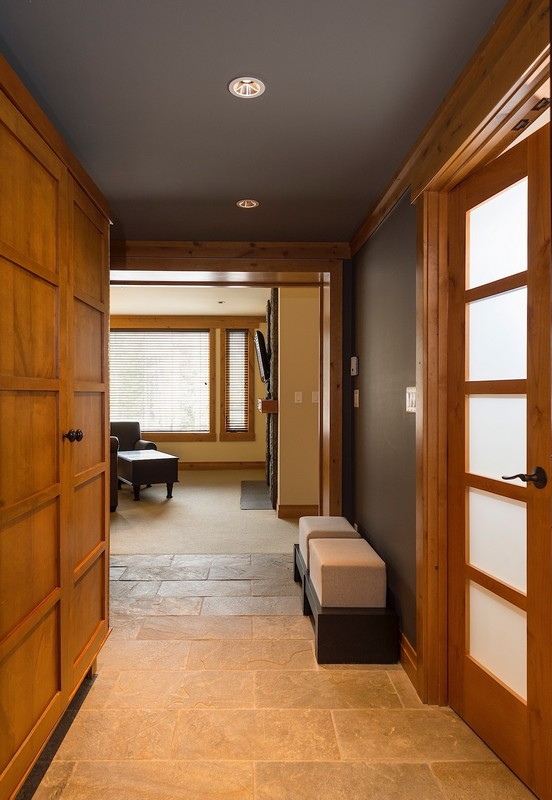chair: (114, 418, 175, 500)
door: (443, 126, 552, 787)
